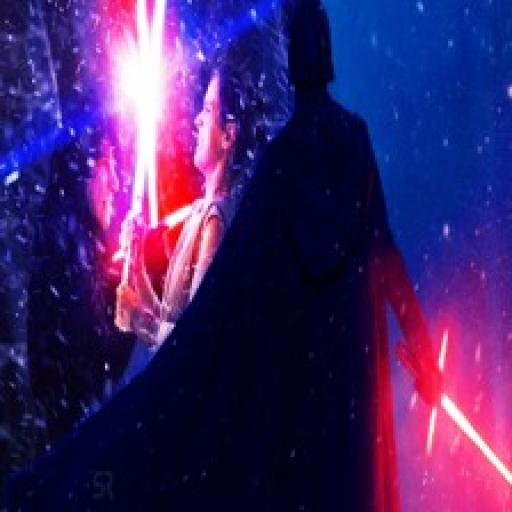human: (224, 2, 450, 512)
lightsaber: (107, 0, 168, 337)
sith saber: (388, 313, 512, 512), (117, 0, 199, 281)
